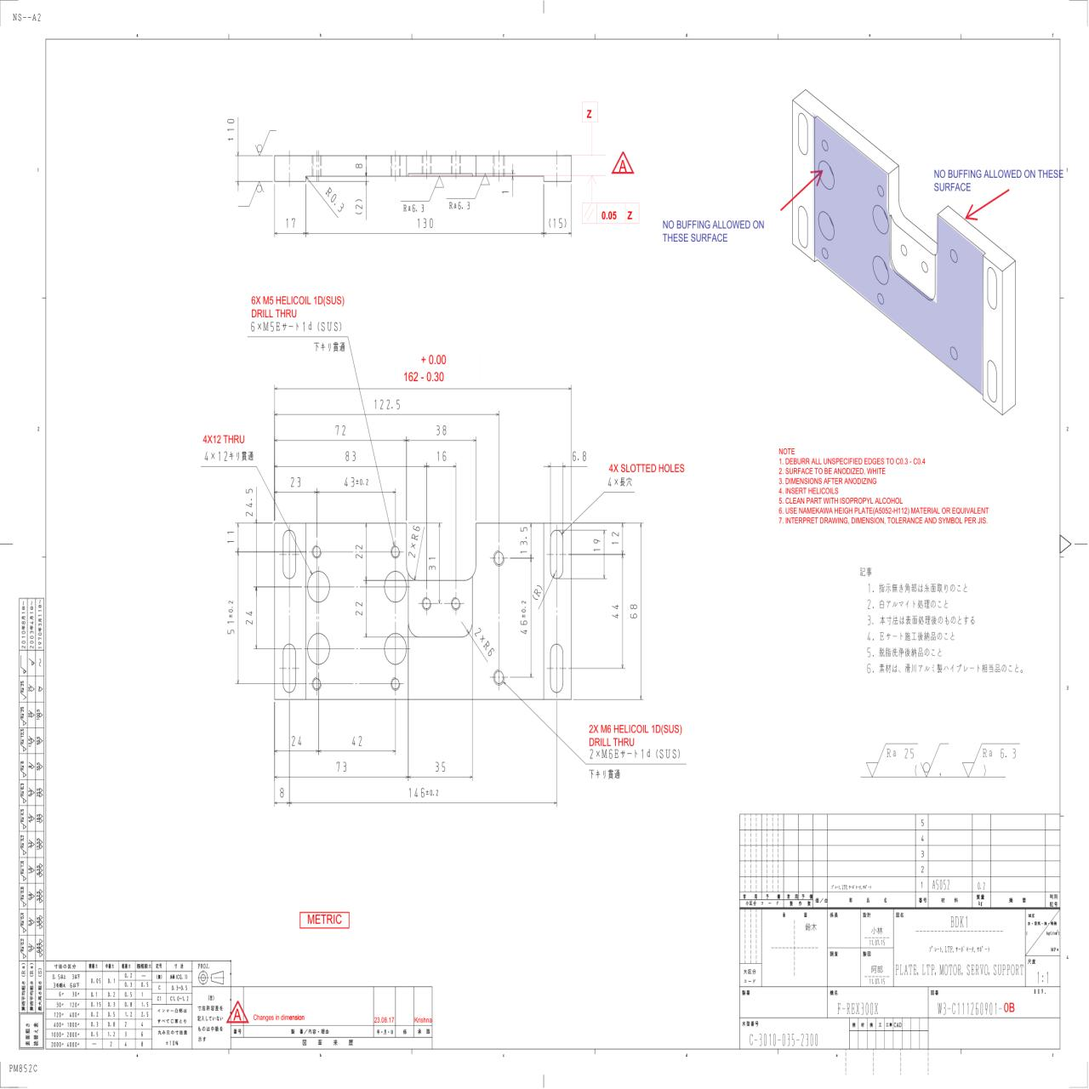basic_dimension: (409, 786, 439, 798), (374, 399, 400, 410), (227, 600, 235, 634), (344, 477, 369, 487), (520, 600, 527, 635), (245, 488, 253, 517), (520, 526, 527, 554), (417, 218, 433, 229), (436, 424, 448, 437), (572, 451, 586, 462), (336, 761, 347, 773), (355, 601, 363, 617), (291, 736, 302, 747), (352, 735, 362, 747), (436, 761, 446, 773), (245, 611, 253, 625), (611, 605, 619, 619), (553, 218, 563, 229), (335, 425, 345, 436), (291, 477, 301, 488), (286, 217, 296, 227), (437, 451, 446, 462), (630, 604, 637, 618), (429, 557, 436, 570), (612, 531, 619, 544), (346, 451, 355, 461), (227, 531, 234, 543), (356, 545, 362, 559), (594, 539, 601, 551), (355, 204, 364, 211), (355, 163, 364, 169), (280, 786, 283, 798), (502, 191, 509, 195)
dimension_metric_symbol: (262, 321, 269, 332), (601, 749, 608, 759)
dimension_radius_symbol: (324, 185, 345, 212), (482, 638, 495, 657), (411, 525, 421, 541), (533, 586, 542, 599)
dimension_thickness_symbol: (226, 119, 235, 141)
gdt_frame_symbol: (580, 202, 641, 228)
gdt_parallelism_symbol: (583, 204, 595, 222)
revision_triangle_symbol: (611, 151, 635, 174)
surface_finish_symbol: (446, 172, 491, 210), (400, 175, 444, 212), (238, 181, 264, 207), (255, 130, 276, 157)
